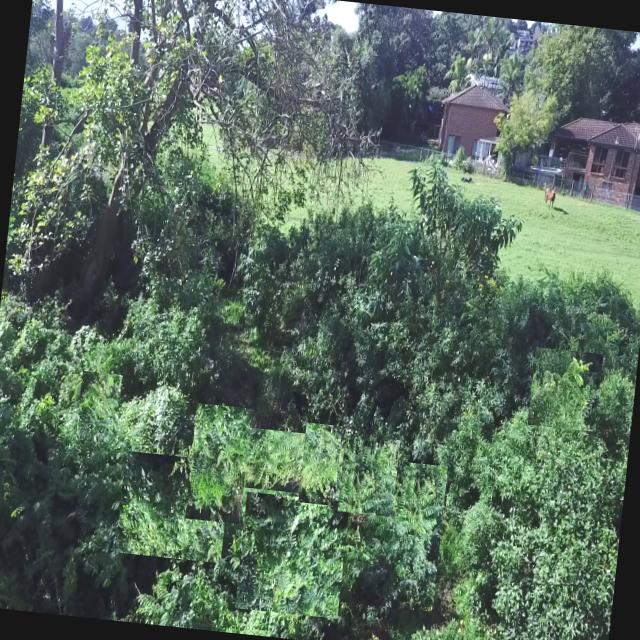Mysore-Thorn-Weed: (339, 457, 447, 612), (234, 492, 350, 618), (114, 450, 230, 562), (126, 526, 242, 632), (184, 403, 252, 524), (527, 346, 603, 432), (74, 520, 140, 618), (337, 434, 400, 516), (73, 371, 122, 466), (242, 428, 308, 493), (298, 422, 342, 506)
